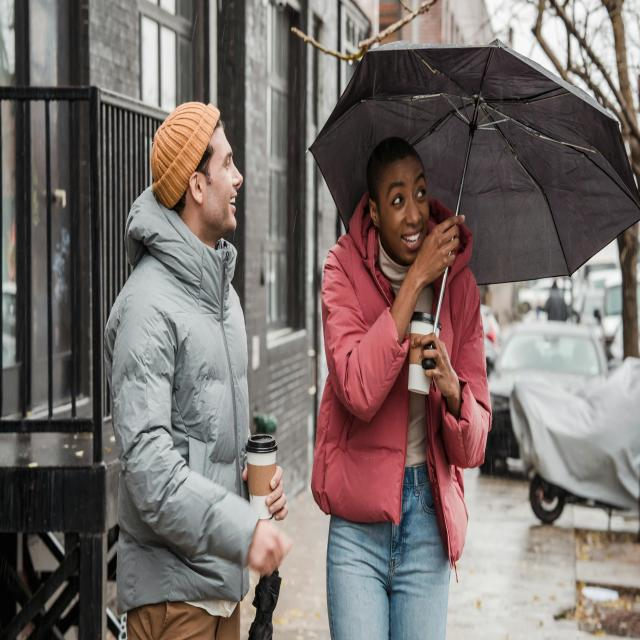cup: (407, 310, 442, 396), (245, 433, 278, 521)
